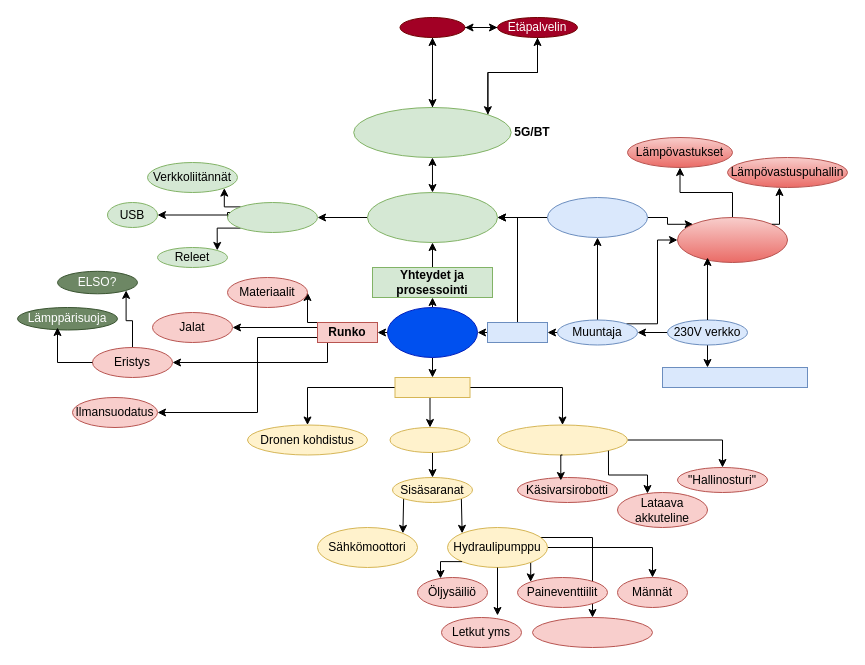
Image size: 865x665. Some labels were removed from this diagram. Here are the shapes that lost their labels. From the top down, the box of each, then its label:
(399, 16, 465, 38): Drone
(353, 106, 511, 158): Modeemi/antennimoduuli
(226, 202, 318, 232): Liitännät
(366, 192, 498, 242): Raspberry
(546, 196, 648, 238): Varavirtalähde
(676, 216, 788, 262): Lämmitys, kosteudenpoisto
(386, 306, 478, 358): Dronebase
(486, 322, 548, 342): Virta
(394, 376, 470, 398): Mekaniikka
(662, 366, 808, 388): Moottorit/hydr, akun lataus
(389, 426, 470, 452): Luukku
(496, 424, 628, 455): Akun lataus & vaihto
(532, 616, 652, 648): Ohjausjärjestelmä
